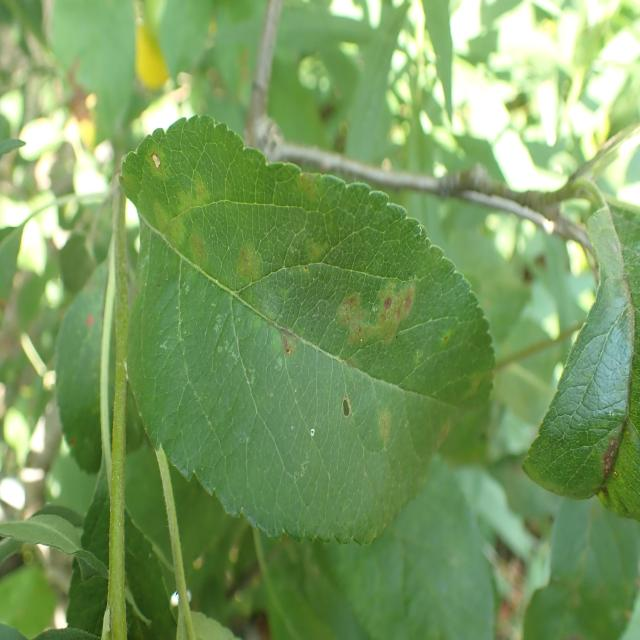scab: (98, 84, 533, 475)
